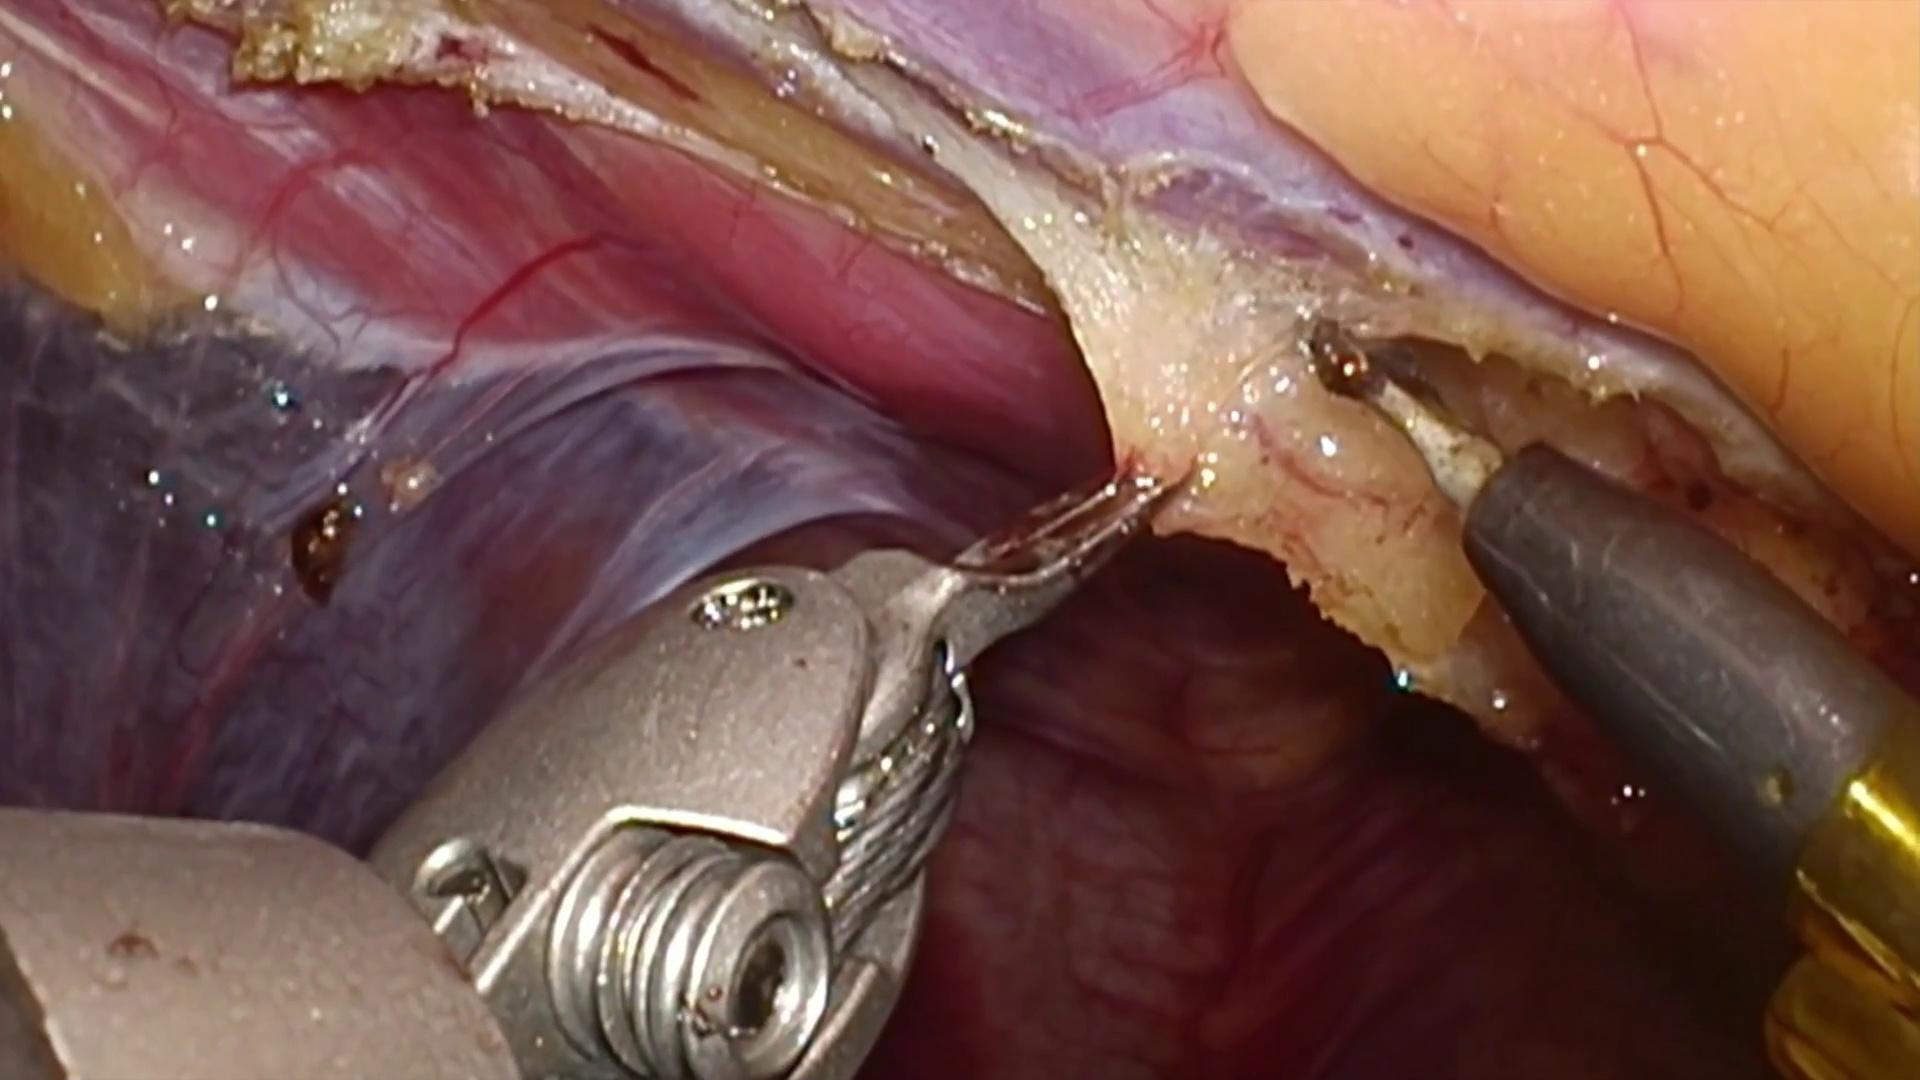Cautery_Spatula: (1312, 322, 1911, 874)
Debakey: (844, 455, 1200, 692)
